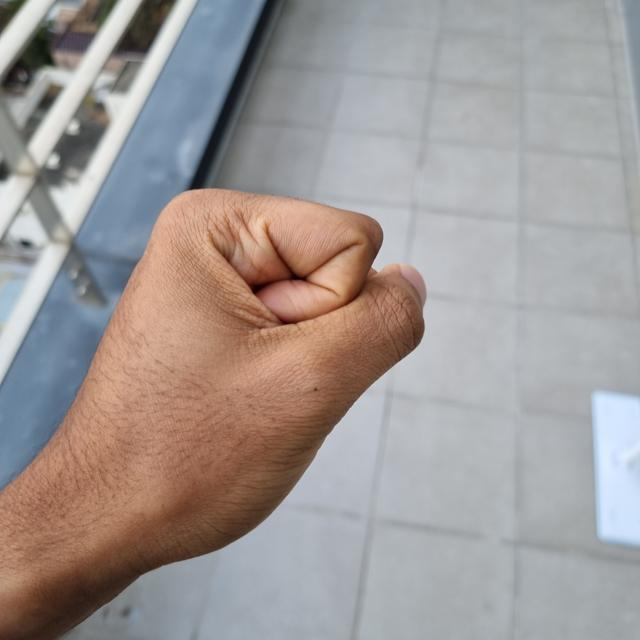Rock: (26, 184, 425, 572)
